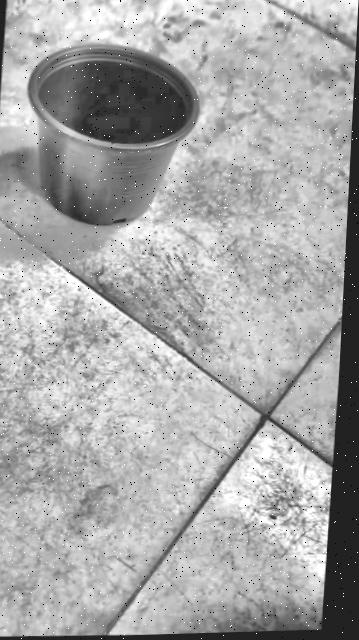pot: (15, 39, 202, 229)
